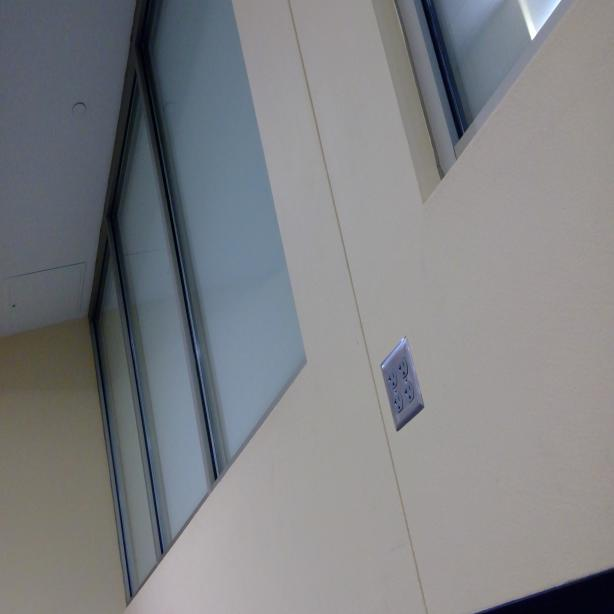typeb: (397, 354, 408, 380), (392, 391, 403, 412), (386, 370, 398, 389), (404, 384, 414, 403)
